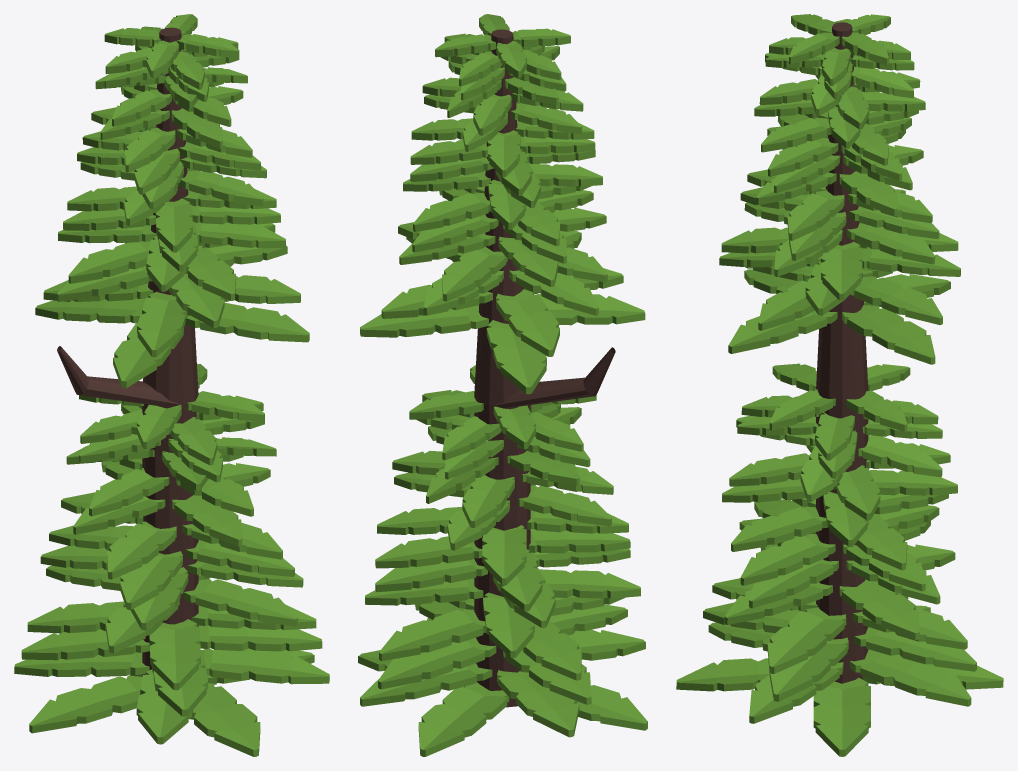
Rendered from Tree_20.fbx.
3 views of the same model, side by side, from view 1: azimuth 30°, elevation 25°; view 2: azimuth 150°, elevation 25°; view 3: azimuth 270°, elevation 25° (orthographic).
Parts seen in each view (by area): view 1: Tree_20; view 2: Tree_20; view 3: Tree_20.
Boxes of the visible parts, box(x1,y1,x2,y2) form: Tree_20: box(14, 14, 329, 756); Tree_20: box(358, 14, 647, 756); Tree_20: box(676, 14, 1003, 756).
Size of the model in its own units: 752 by 1678 by 752.
